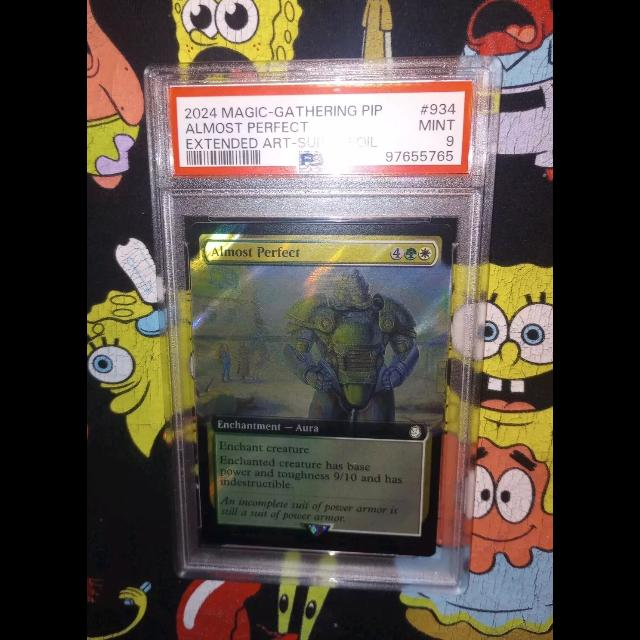card: (188, 220, 455, 557)
psa_label: (169, 79, 475, 176)
psa_slab: (142, 56, 504, 596)
